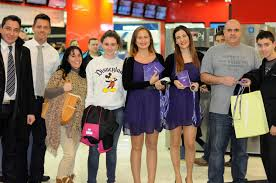person: (211, 13, 260, 71), (163, 17, 207, 79), (76, 21, 126, 75), (130, 22, 164, 89), (26, 10, 58, 66)
